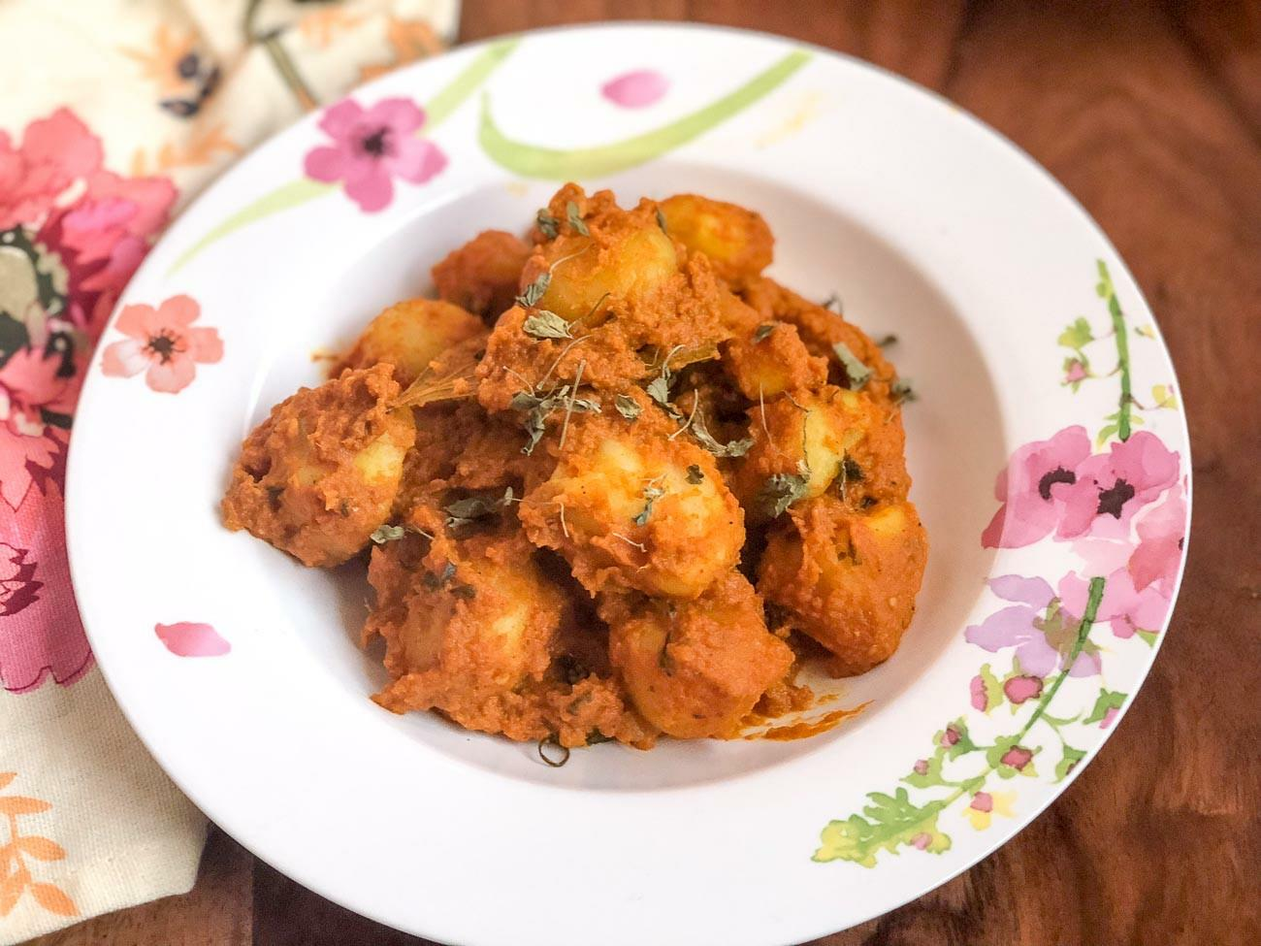DumAloo: (216, 175, 930, 744)
